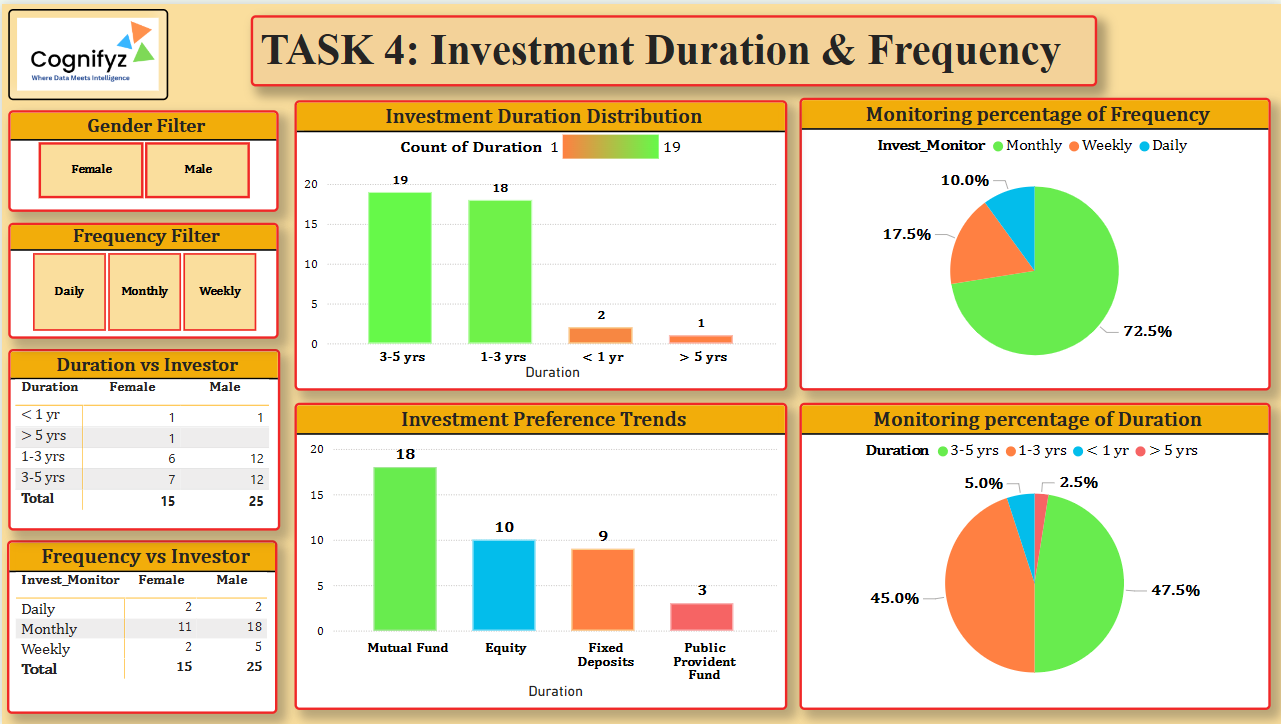

What the dashboard file says about the page in this screenshot:
{"tool":"powerbi","page":{"name":"Task 4","canvas":[1280,720],"ordinal":7},"visuals":[{"type":"image","box":[6.2,5,160,91.2],"z":0},{"type":"textbox","box":[248.8,11.2,846.2,71.2],"z":1000},{"type":"slicer","title":"Gender Filter","fields":{"Values":["Data_set 2.gender"]},"box":[6,106.2,270.2,101.3],"z":2000},{"type":"pivotTable","title":"Frequency vs Investor","fields":{"Values":["CountNonNull(Data_set 2.gender)"],"Rows":["Data_set 2.Invest_Monitor"],"Columns":["Data_set 2.gender"]},"box":[5.6,536.6,270.5,173.7],"z":3000},{"type":"pivotTable","title":"Duration vs Investor","fields":{"Rows":["Data_set 2.Duration"],"Values":["CountNonNull(Data_set 2.gender)"],"Columns":["Data_set 2.gender"]},"box":[5.8,345.3,272.1,181.4],"z":4000},{"type":"pieChart","title":"Monitoring percentage of Frequency","fields":{"Category":["Data_set 2.Invest_Monitor"],"Y":["CountNonNull(Data_set 2.Invest_Monitor)"]},"box":[797,93.5,470.9,292.8],"z":5000},{"type":"slicer","title":"Frequency Filter","fields":{"Values":["Data_set 2.Invest_Monitor"]},"box":[6.7,218.2,270.5,115.8],"z":6000},{"type":"columnChart","title":"Investment Duration Distribution","fields":{"Category":["Data_set 2.Duration"],"Y":["CountNonNull(Data_set 2.Duration)"]},"box":[292.8,95.7,493.1,290.5],"z":7000},{"type":"clusteredColumnChart","title":"Investment Preference Trends","fields":{"Y":["CountNonNull(Data_set 2.Invest_Monitor)"],"Category":["Data_set 2.Avenue"]},"box":[292.8,398.5,493.1,307.2],"z":8000},{"type":"pieChart","title":"Monitoring percentage of Duration","fields":{"Y":["CountNonNull(Data_set 2.Invest_Monitor)"],"Category":["Data_set 2.Duration"]},"box":[797,398.5,470.9,307.2],"z":9000}]}

Visuals, with their boxes in screenshot pixels (x1, y1, x2, y2), scaled from the page's 1280x720 canvas onto the 1281x724 screenshot:
image: box=[6, 5, 166, 97]
textbox: box=[249, 11, 1096, 83]
"Gender Filter" slicer: box=[6, 107, 276, 209]
"Frequency vs Investor" pivotTable: box=[6, 540, 276, 714]
"Duration vs Investor" pivotTable: box=[6, 347, 278, 530]
"Monitoring percentage of Frequency" pieChart: box=[798, 94, 1269, 388]
"Frequency Filter" slicer: box=[7, 219, 277, 336]
"Investment Duration Distribution" columnChart: box=[293, 96, 787, 388]
"Investment Preference Trends" clusteredColumnChart: box=[293, 401, 787, 710]
"Monitoring percentage of Duration" pieChart: box=[798, 401, 1269, 710]
